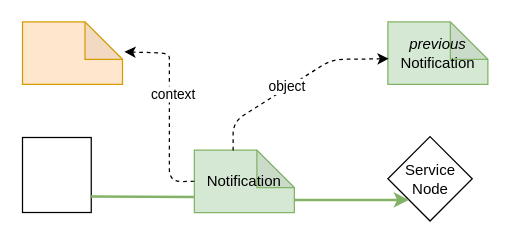
Image size: 510x244. Some labels were removed from this diagram. The centre of each missing label's shape, as x and y in pixels:
"Artifact" belongs at (x=71, y=52).
"Data node" belongs at (x=56, y=174).
